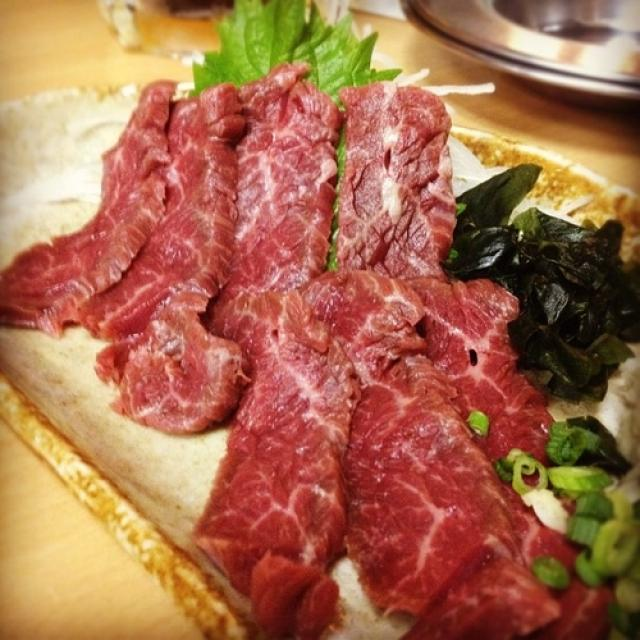刺身生食: (29, 47, 603, 626)
